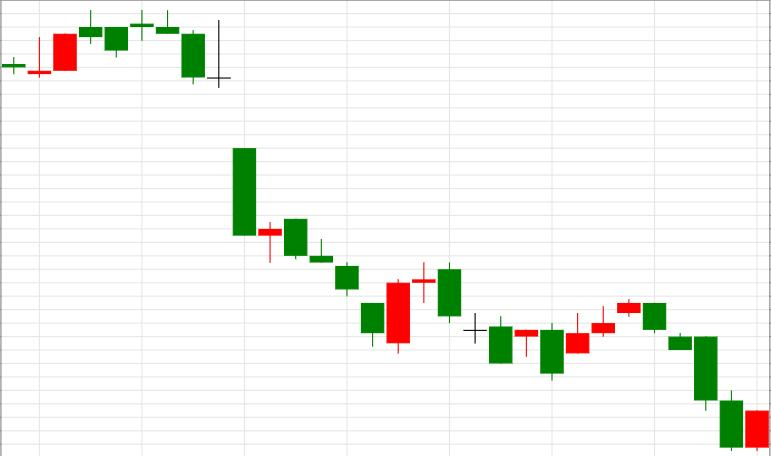bullish_engulfing_rise: (233, 149, 410, 354)
